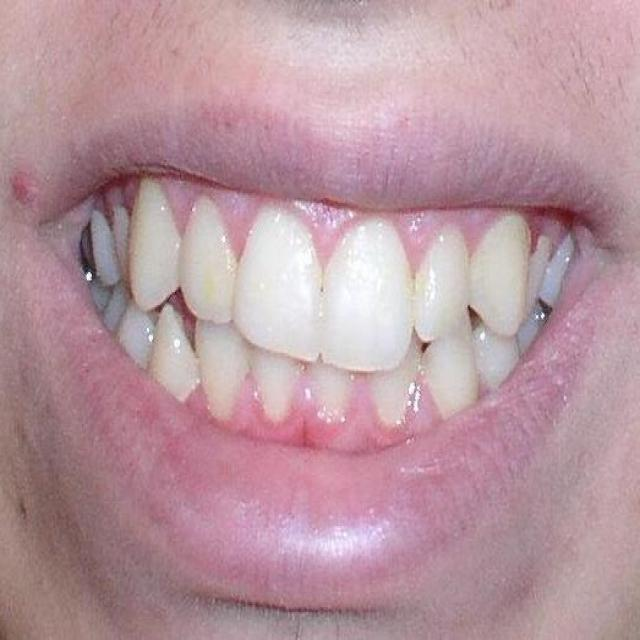tooth: (313, 242, 410, 350), (244, 242, 314, 335), (417, 228, 465, 340), (110, 210, 179, 286), (192, 312, 242, 414), (175, 226, 232, 307), (366, 346, 427, 421), (478, 223, 525, 302), (430, 342, 472, 409), (253, 348, 294, 414), (477, 312, 518, 376), (162, 305, 188, 404), (307, 363, 349, 421), (84, 216, 115, 280), (549, 234, 580, 294), (124, 305, 152, 365), (525, 241, 545, 308)
